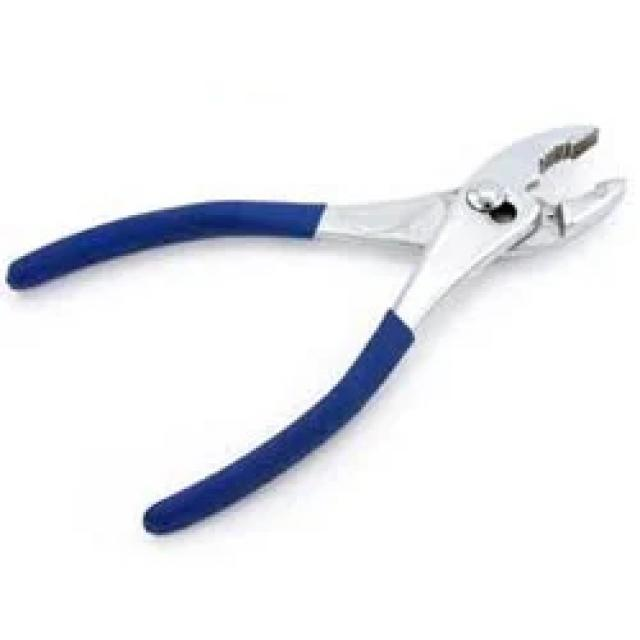pliers: (0, 117, 632, 542)
